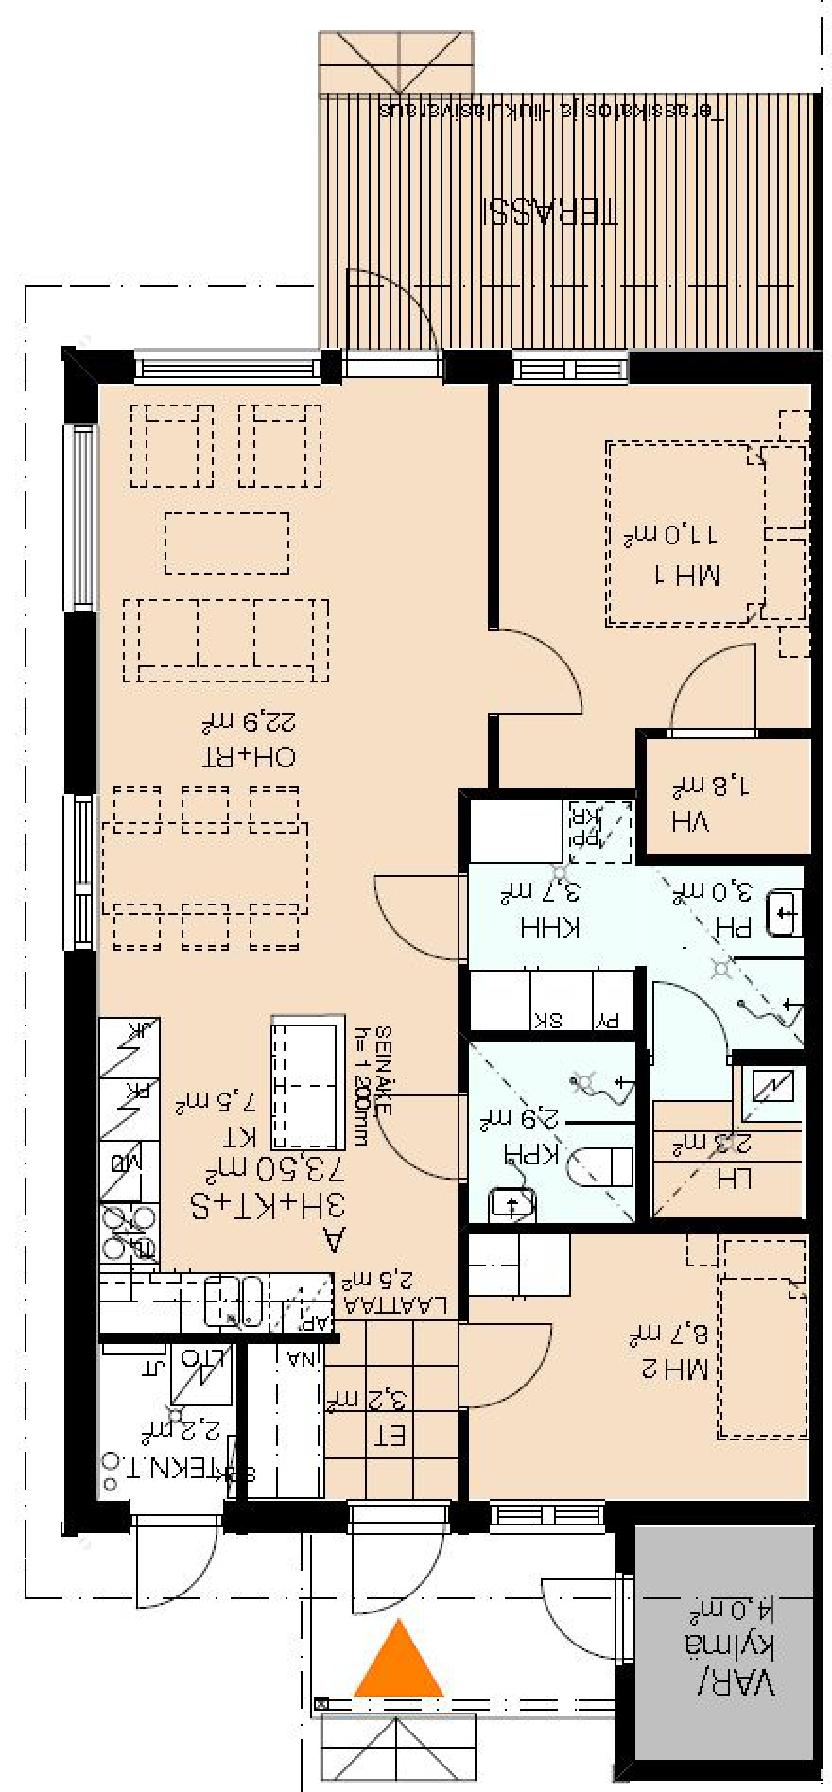door: (345, 264, 448, 379), (663, 640, 769, 750), (345, 1504, 432, 1627), (528, 1573, 637, 1670), (456, 1314, 558, 1414), (371, 1093, 477, 1189), (134, 1499, 221, 1614), (487, 635, 595, 725), (371, 866, 469, 959), (645, 977, 735, 1064)
window: (128, 335, 319, 383), (61, 425, 97, 611), (59, 795, 98, 959), (511, 346, 632, 383), (482, 1501, 608, 1533), (489, 1503, 602, 1533)
zone: (89, 383, 454, 1317), (458, 379, 800, 800), (474, 794, 806, 1209), (321, 87, 817, 351), (463, 1229, 800, 1501), (299, 1535, 619, 1718), (643, 1522, 811, 1763), (247, 1342, 461, 1503), (471, 1048, 634, 1213), (97, 1339, 232, 1513), (648, 738, 805, 842)
